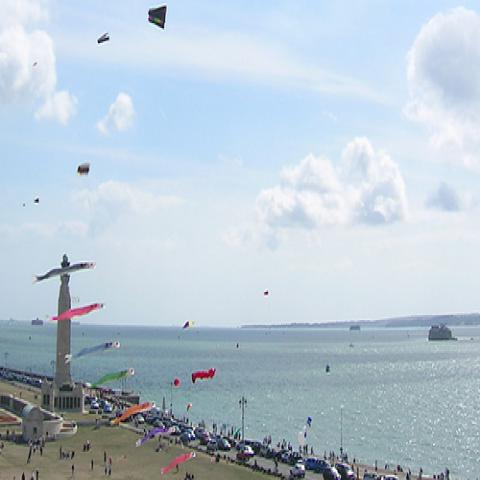car: (116, 401, 400, 478), (322, 467, 342, 478), (218, 438, 231, 452), (235, 449, 250, 461), (179, 431, 192, 443), (199, 432, 212, 444), (260, 445, 271, 458), (206, 440, 218, 451), (243, 445, 254, 456), (134, 413, 145, 423), (153, 421, 165, 430), (188, 429, 196, 440), (90, 400, 99, 409), (104, 403, 112, 412)
